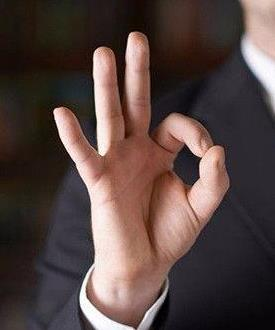left: (51, 31, 231, 281)
